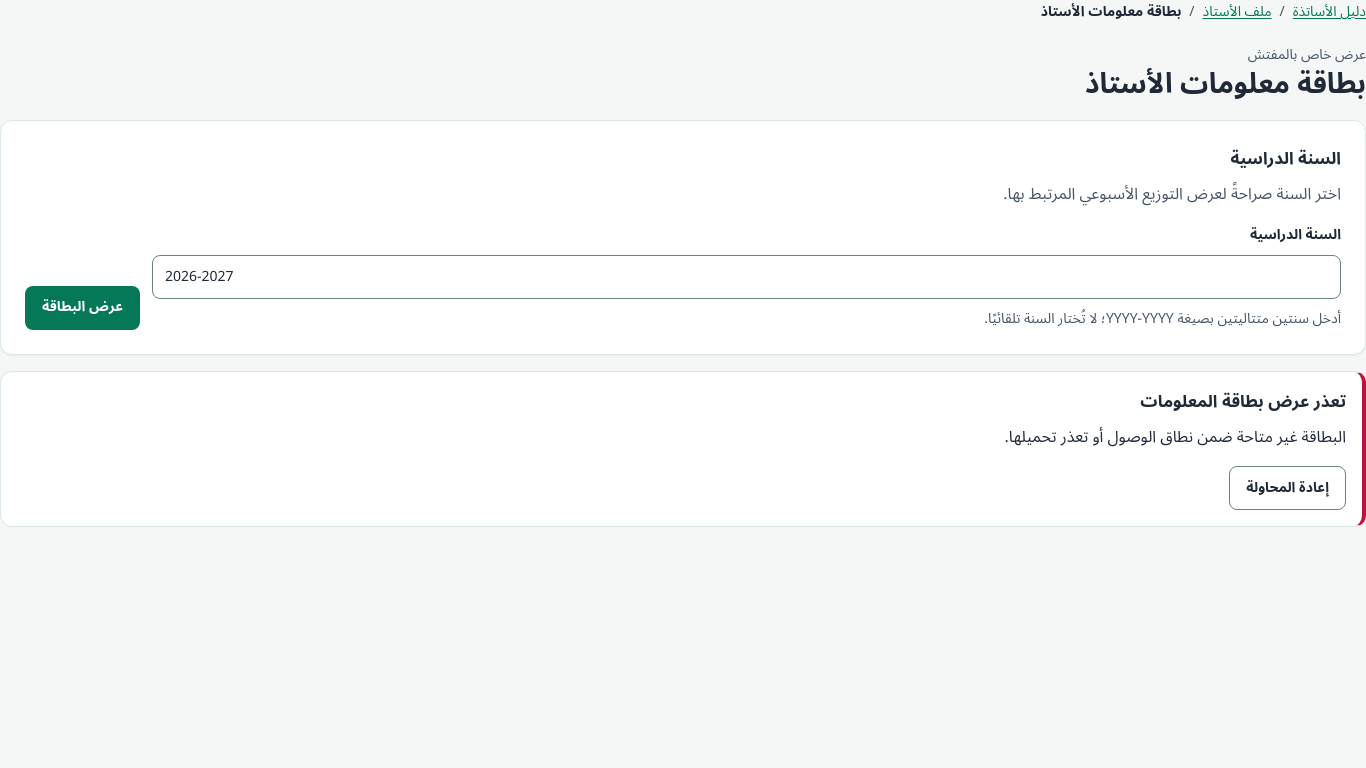
it: TASK-084 Teacher information card › shows safe errors without exposing internal response details
Check: the heading "تعذر عرض بطاقة المعلومات" is shown, box [1140,384,1346,420]
Click the button "إعادة المحاولة": click(1288, 488) [1229,466,1346,510]
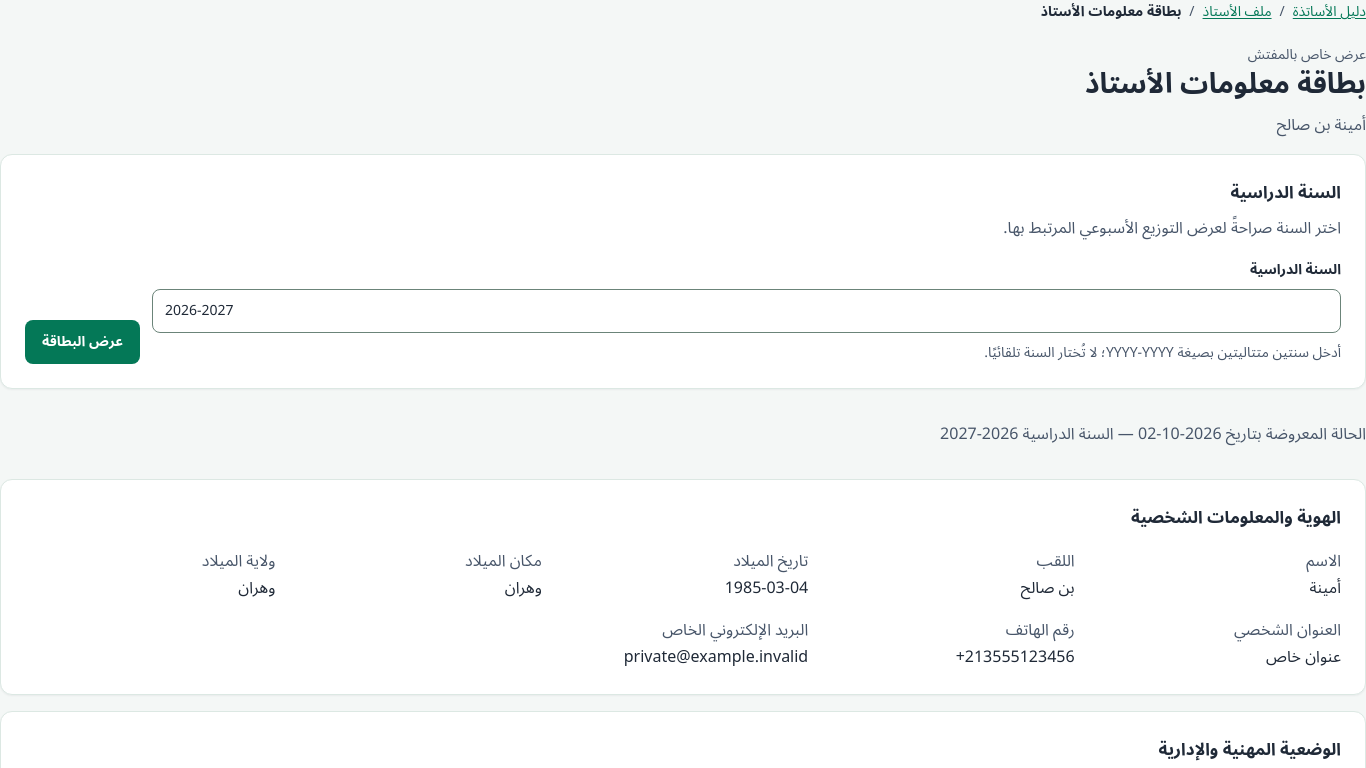
Check: the text "أمينة بن صالح" is shown, box [1277,108,1365,142]
